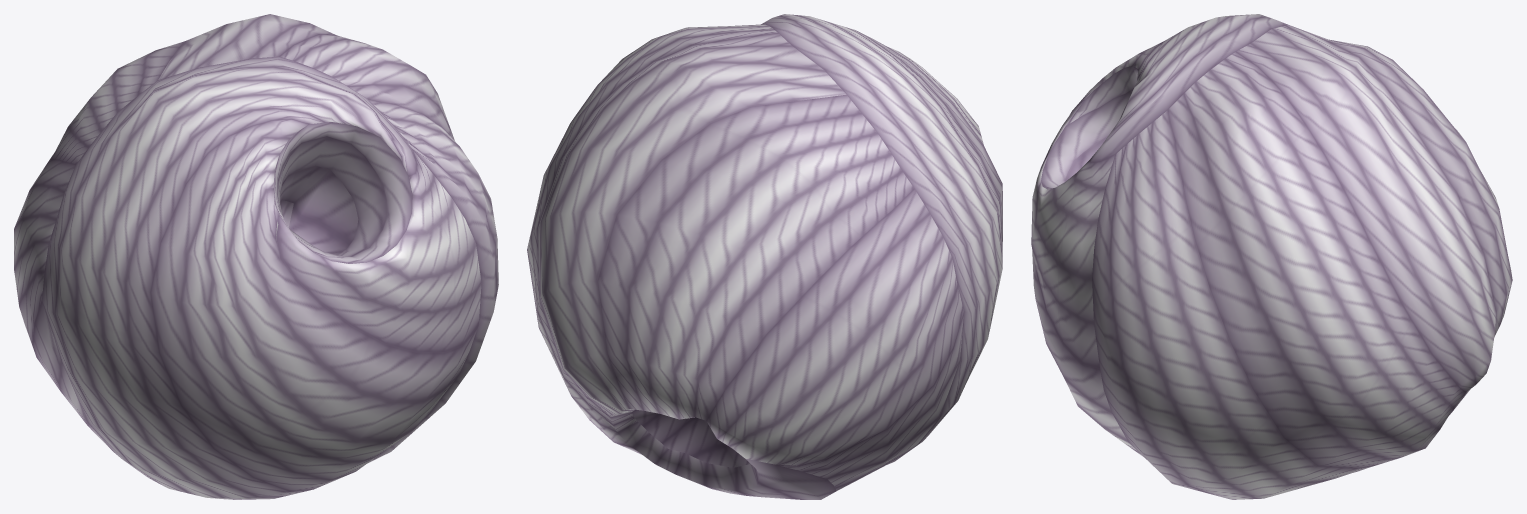
Rendered from Roll_Down.fbx.
3 renders of one model, left to right at view 1: azimuth 30°, elevation 25°; view 2: azimuth 150°, elevation 25°; view 3: azimuth 270°, elevation 25°, orthographic.
Parts seen in each view (by area): view 1: Roll; view 2: Roll; view 3: Roll.
Part boxes in pixels (<box>): Roll: <box>14,14,498,499</box>; Roll: <box>527,14,1002,499</box>; Roll: <box>1031,14,1512,499</box>.
Bounding box in the file's own units: 103 × 105 × 104.
